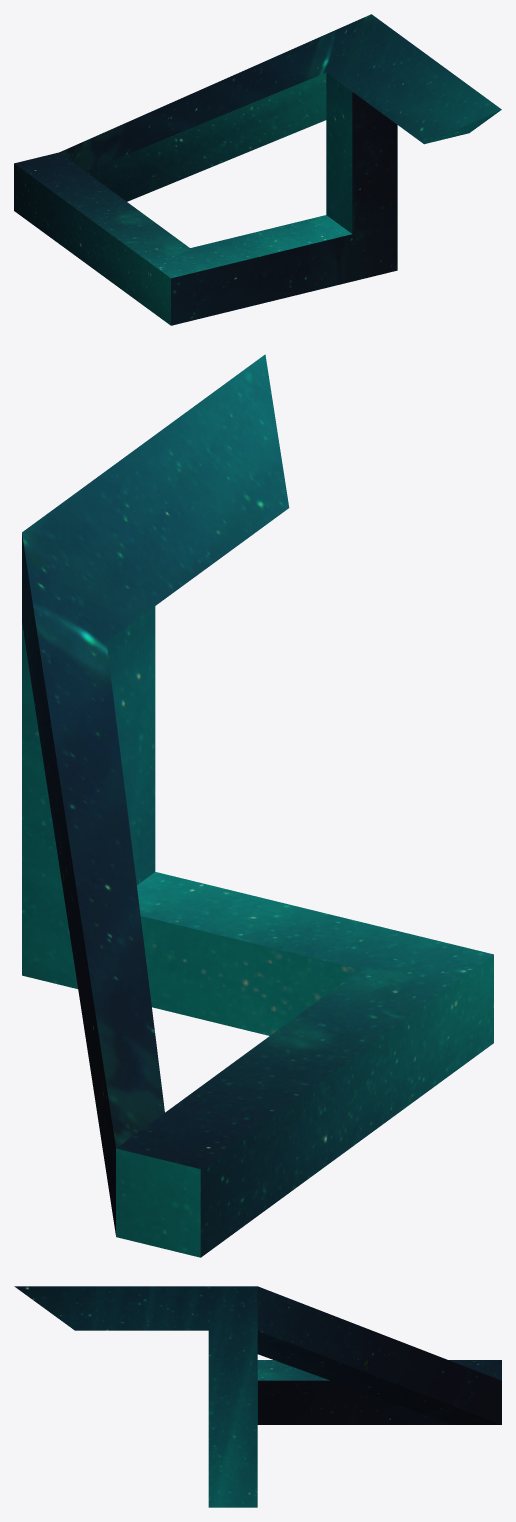
File: Penrose.dae
3 renders of one model, top to bottom at view 1: azimuth 30°, elevation 25°; view 2: azimuth 150°, elevation 25°; view 3: azimuth 270°, elevation 25°, orthographic. The views are drawn at different scales.
Visible parts, largest first — view 1: Impossible Triangle NewPew; view 2: Impossible Triangle NewPew; view 3: Impossible Triangle NewPew.
Part boxes in pixels (x1,y1,x2,y2): Impossible Triangle NewPew: (14,14,501,325); Impossible Triangle NewPew: (22,354,493,1257); Impossible Triangle NewPew: (14,1286,501,1507).
Bounding box in the file's own units: 50 × 99.82 × 50.
1 material, 1 textured.
